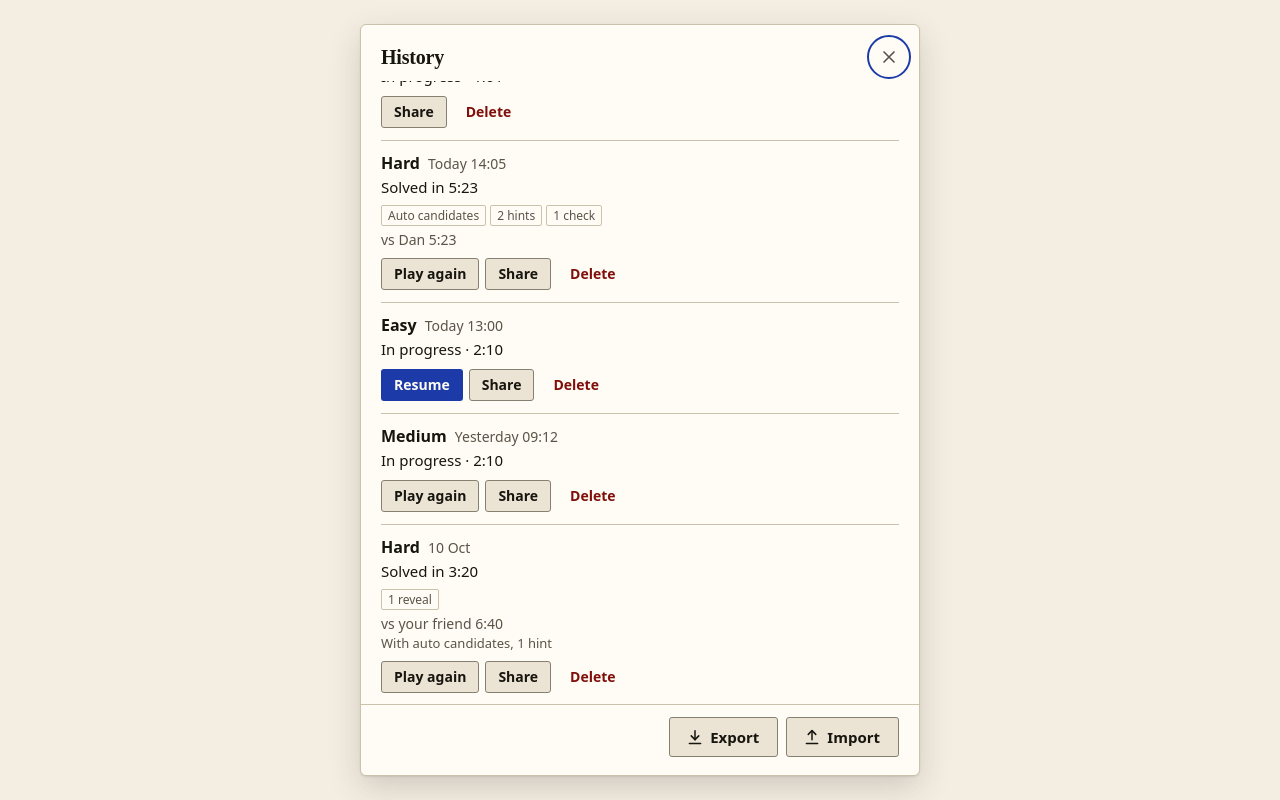
Test case: HistoryDialog › deleting › asks within the row first, with focus on the safe choice
This screenshot has width=1280, height=800.
(page scrolled)
Click the button with aria-label "Delete Medium puzzle from Yesterday 09:12": (593, 496) [557,480,629,512]
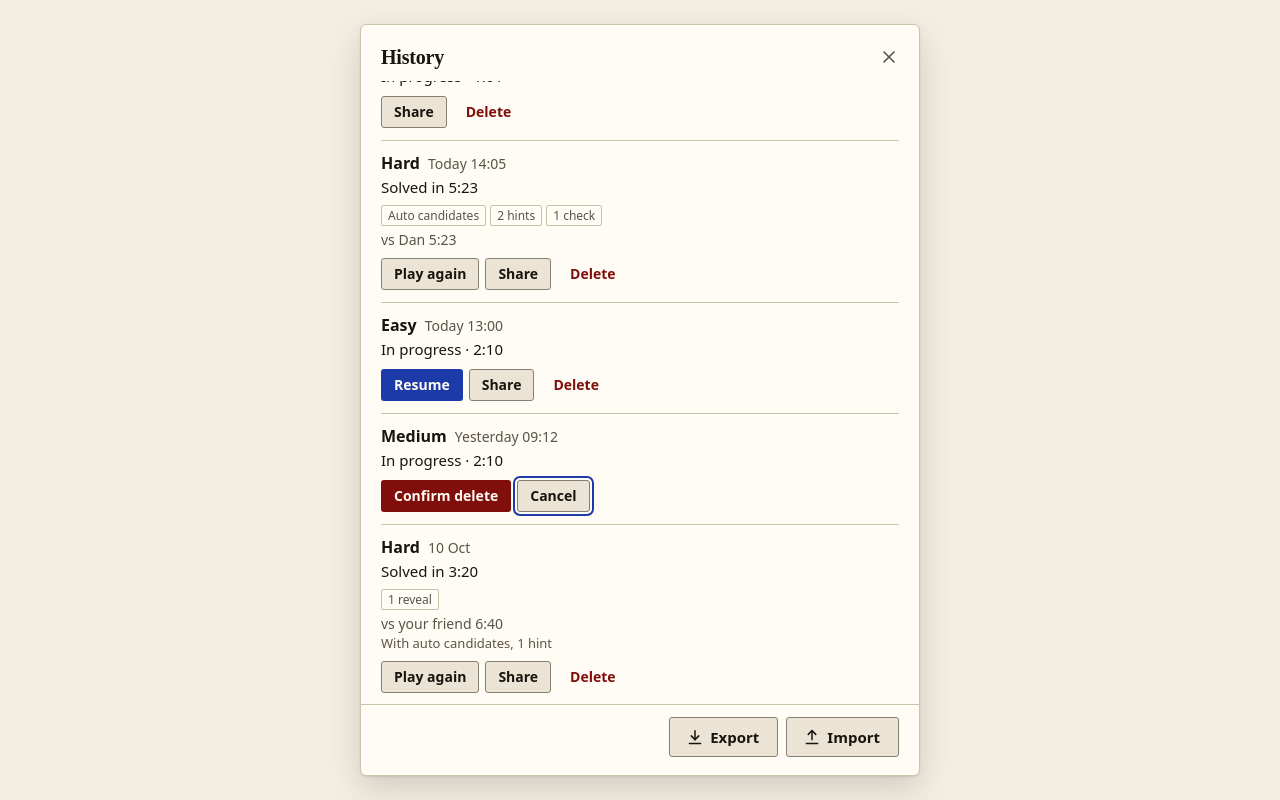
expect the button "Confirm delete" is shown: met, box [381,480,511,512]
